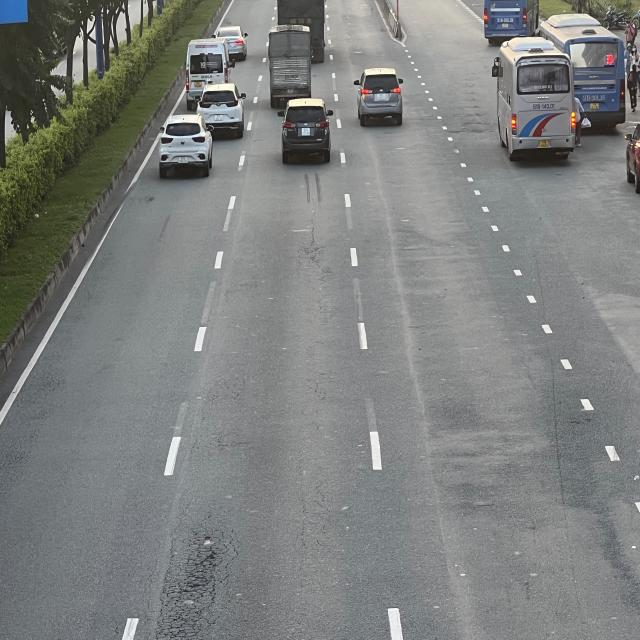car: (282, 101, 337, 165), (160, 117, 217, 176), (352, 67, 402, 125), (196, 85, 245, 138), (216, 27, 248, 62)
coach: (492, 36, 579, 160), (538, 14, 623, 128), (486, 0, 540, 42)
truck: (268, 28, 312, 106)
van: (185, 39, 232, 102)
